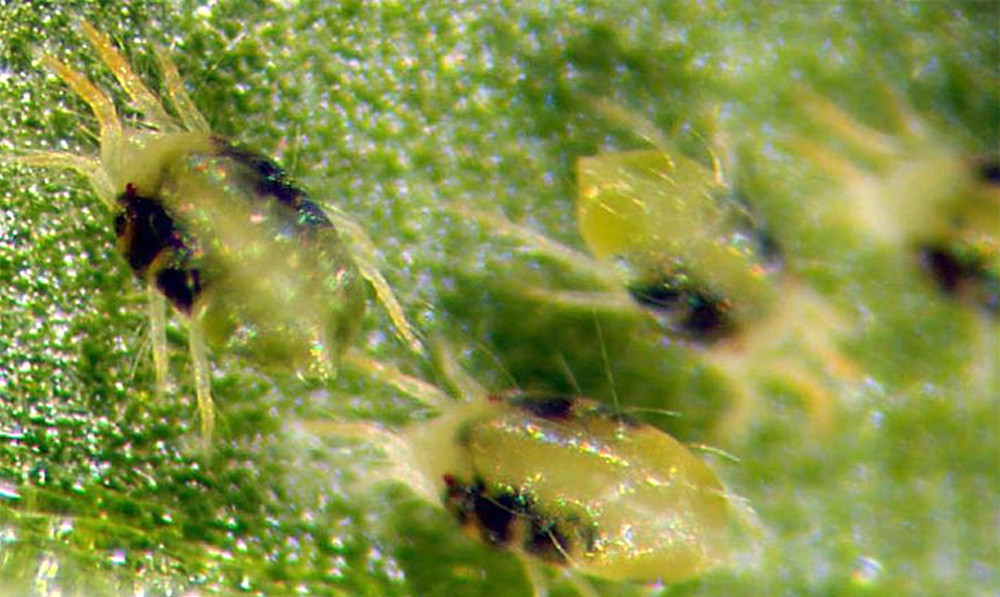Aracnido Rojo: (29, 30, 440, 454), (338, 309, 787, 592), (530, 91, 893, 435)
